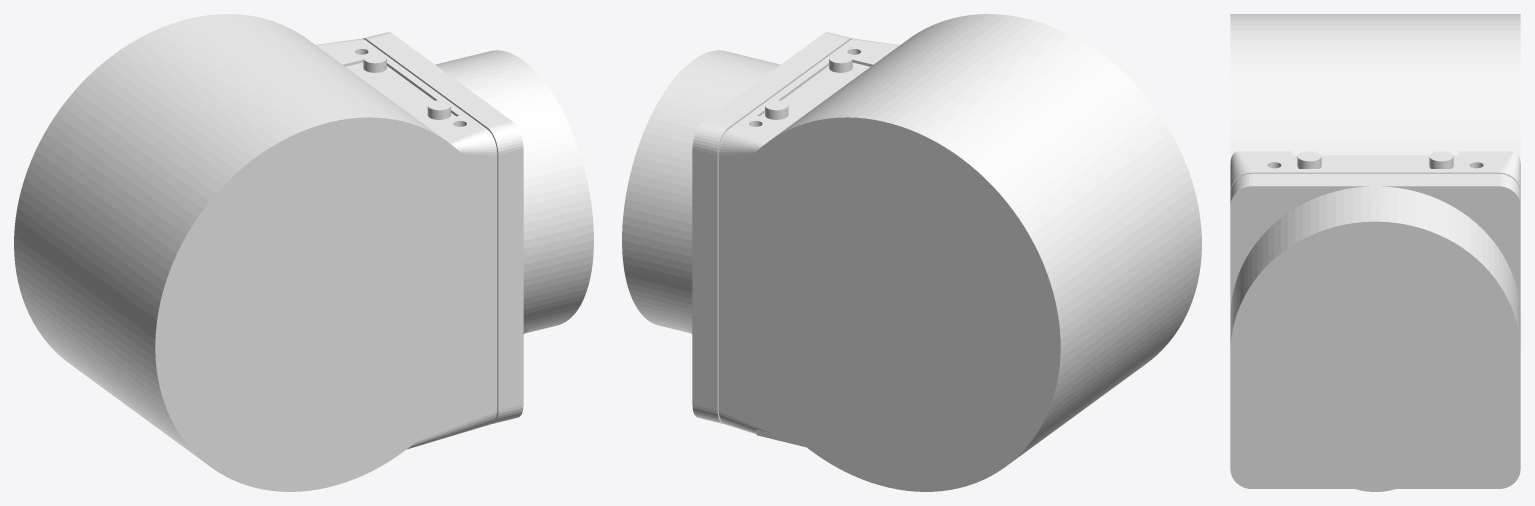
3 views of the same model, side by side, from view 1: azimuth 30°, elevation 25°; view 2: azimuth 150°, elevation 25°; view 3: azimuth 270°, elevation 25° (orthographic). The views are drawn at different scales.
Visible parts, largest first — view 1: RV-7F_WRIST_06; view 2: RV-7F_WRIST_06; view 3: RV-7F_WRIST_06.
Part boxes in pixels (x1,y1,x2,y2): RV-7F_WRIST_06: [14, 14, 593, 491]; RV-7F_WRIST_06: [622, 14, 1201, 491]; RV-7F_WRIST_06: [1230, 14, 1520, 491].
Bounding box in the file's own units: 0.1183 × 0.066 × 0.094.
1 material, 1 textured.
